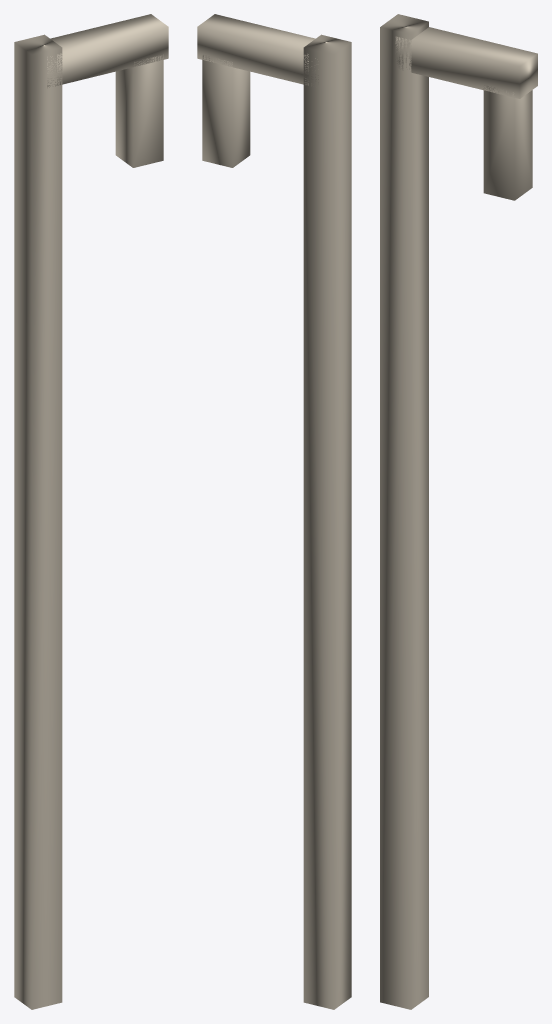
The model's file is crook.glb.
3 views of the same model, side by side, from view 1: azimuth 30°, elevation 25°; view 2: azimuth 150°, elevation 25°; view 3: azimuth 330°, elevation 25° (orthographic). The views are drawn at different scales.
Parts seen in each view (by area): view 1: crook; view 2: crook; view 3: crook.
Part boxes in pixels (x1,y1,x2,y2): crook: (14,14,168,1009); crook: (197,14,351,1009); crook: (380,14,537,1009).
Bounding box in the file's own units: 0.135 × 0.9 × 0.03.
